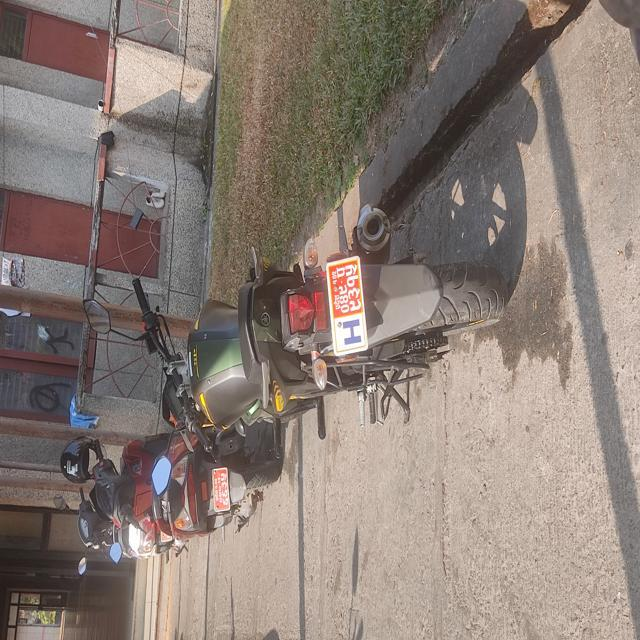license_plate: (318, 243, 381, 359)
